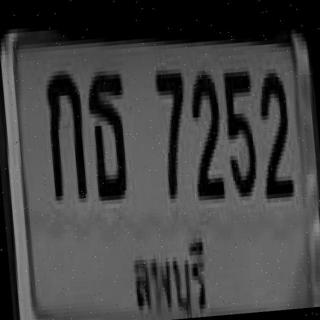A01: (43, 65, 87, 196)
A24: (84, 66, 130, 197)
N02: (185, 66, 224, 196), (253, 68, 292, 194)
N05: (220, 67, 259, 194)
N07: (152, 65, 191, 195)
P23: (124, 229, 213, 320)
